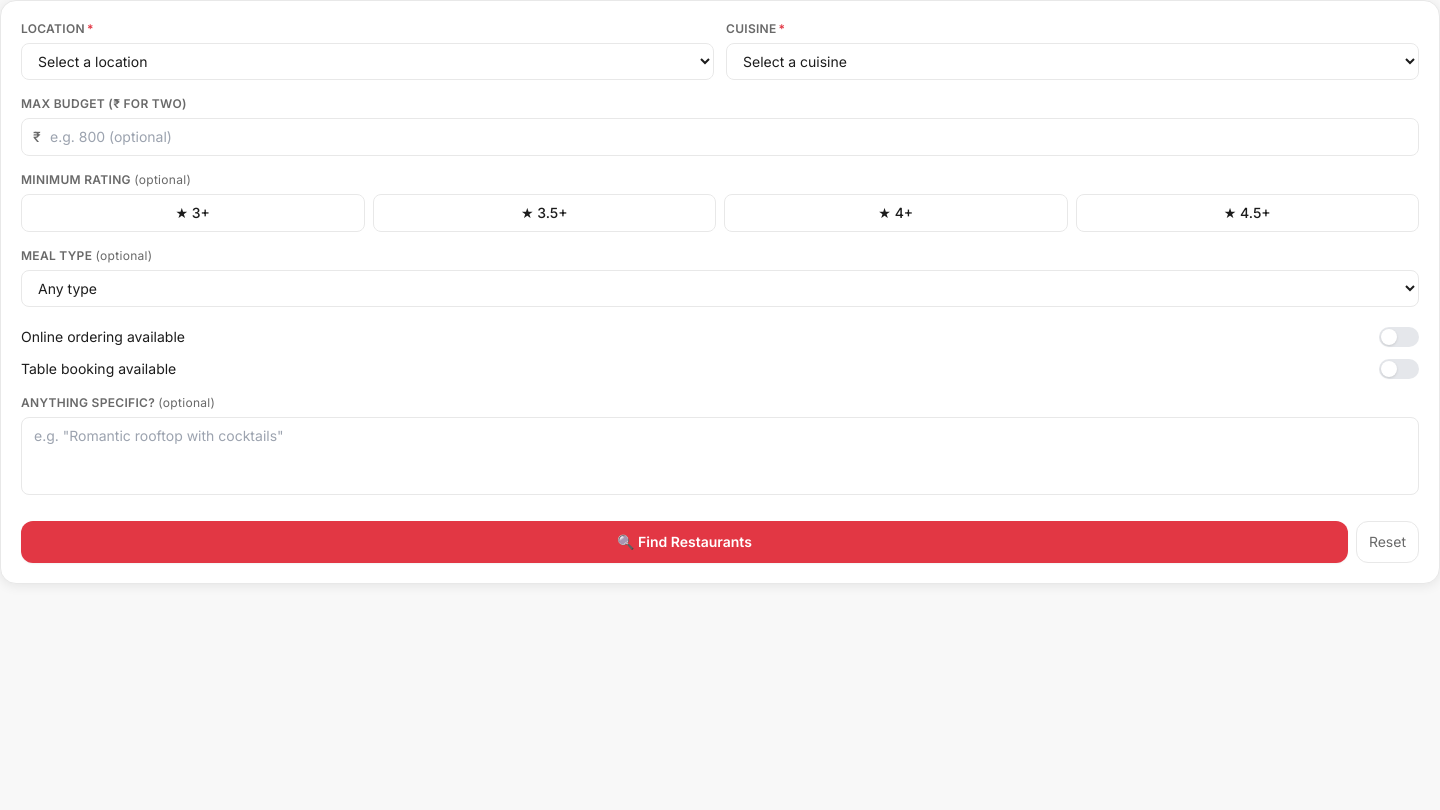
Test: PreferenceForm › resets form fields when Reset is clicked
Type "hello" into the text box labelled "Anything specific? (optional)" at (720, 456), box [21,417,1419,495]
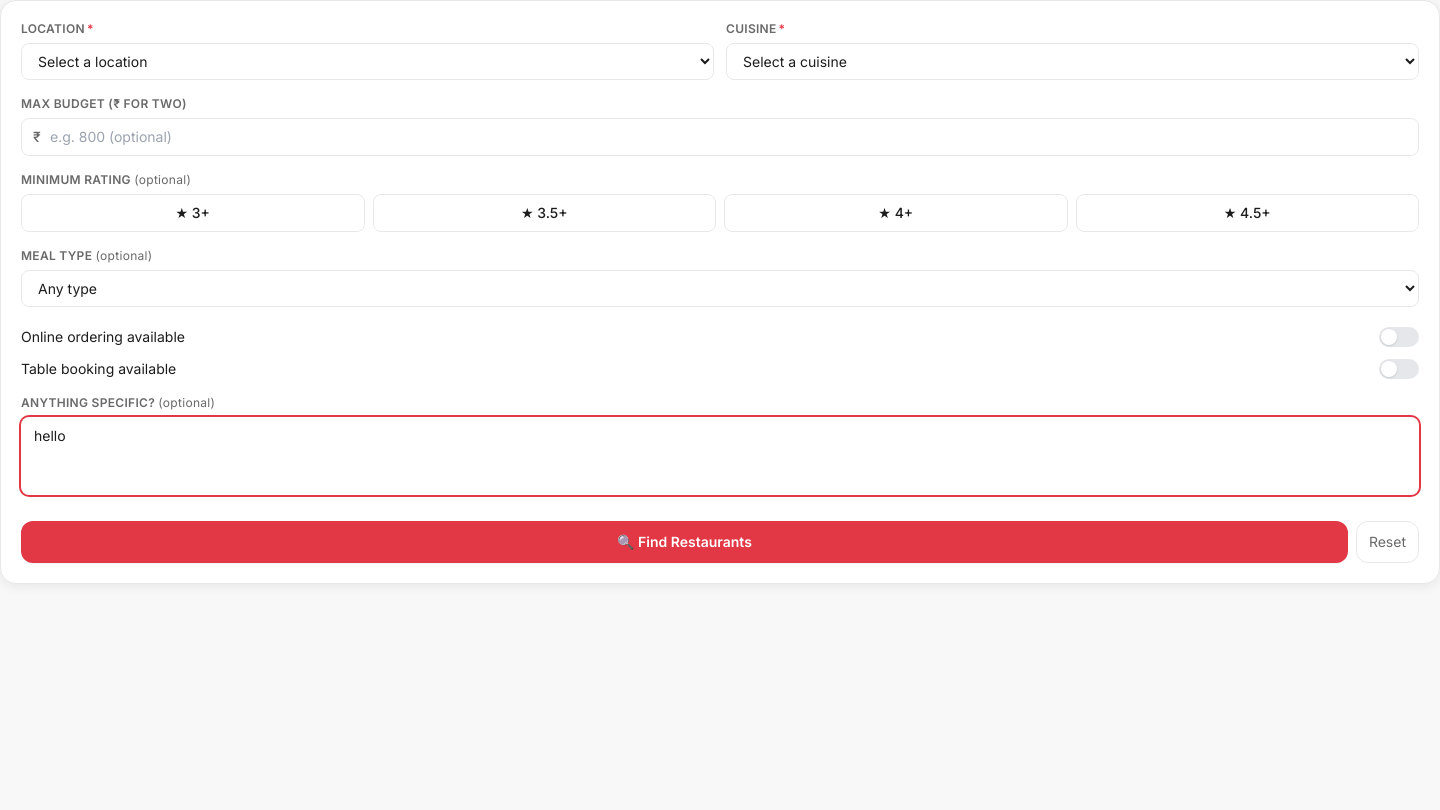
Click the button "Reset" at (1387, 542), box [1356,521,1419,563]
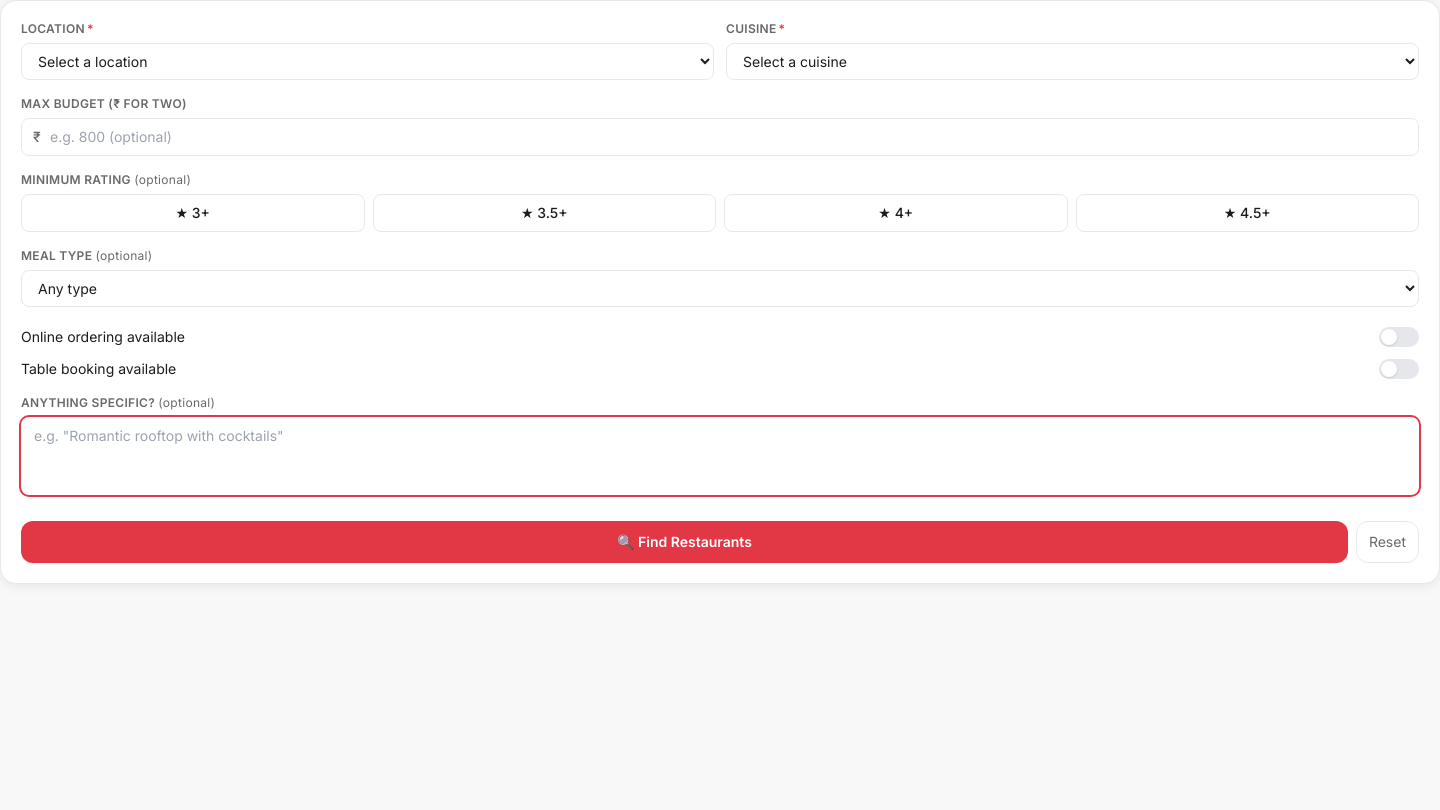
Expected: the text box labelled "Anything specific? (optional)" is empty, [21,417,1419,495]
